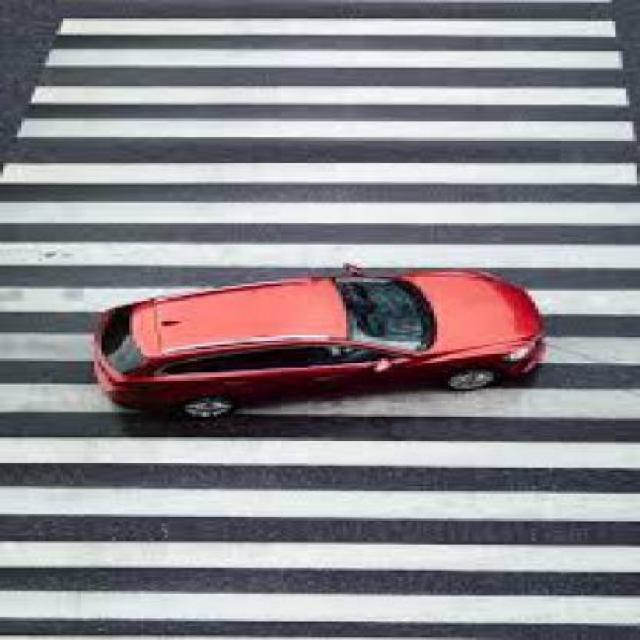vehicle: (79, 262, 548, 428)
